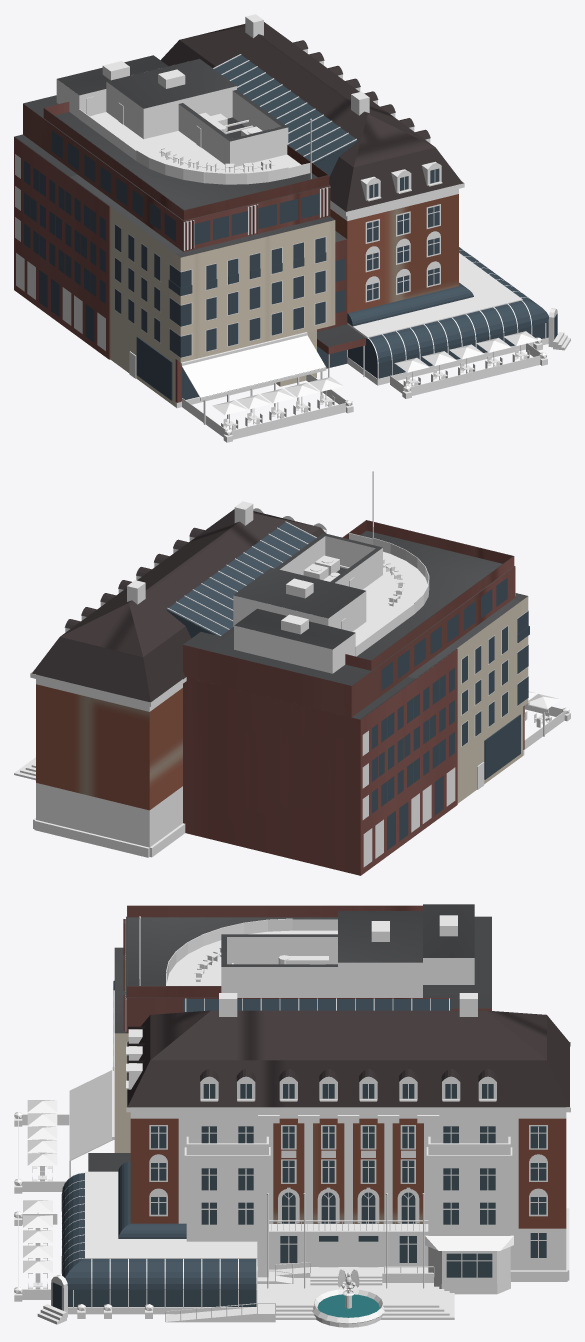
The model's file is foniks_lit.glb.
The picture shows the model from 3 angles, top to bottom: view 1: azimuth 30°, elevation 25°; view 2: azimuth 150°, elevation 25°; view 3: azimuth 270°, elevation 25°; orthographic projection. The views are drawn at different scales.
Parts seen in each view (by area): view 1: FoniksLit; view 2: FoniksLit; view 3: FoniksLit.
Boxes of the visible parts, left/top/right/bottom form: FoniksLit: left=14, top=14, right=570, bottom=442; FoniksLit: left=14, top=471, right=570, bottom=875; FoniksLit: left=14, top=904, right=570, bottom=1327.
Bounding box in the file's own units: 42.67 × 27.32 × 48.59.
Materials: 9 (5 with a texture image).
